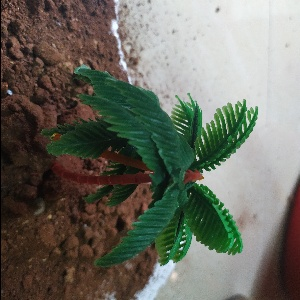plant: (41, 59, 247, 270)
